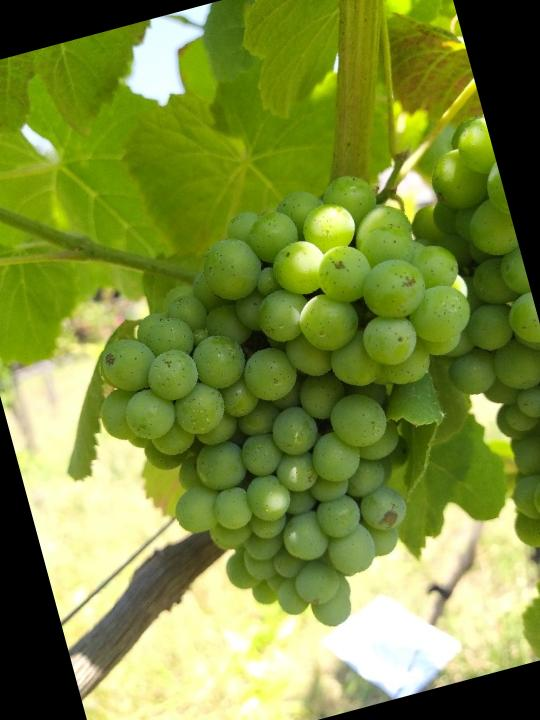grape: (54, 150, 540, 674)
